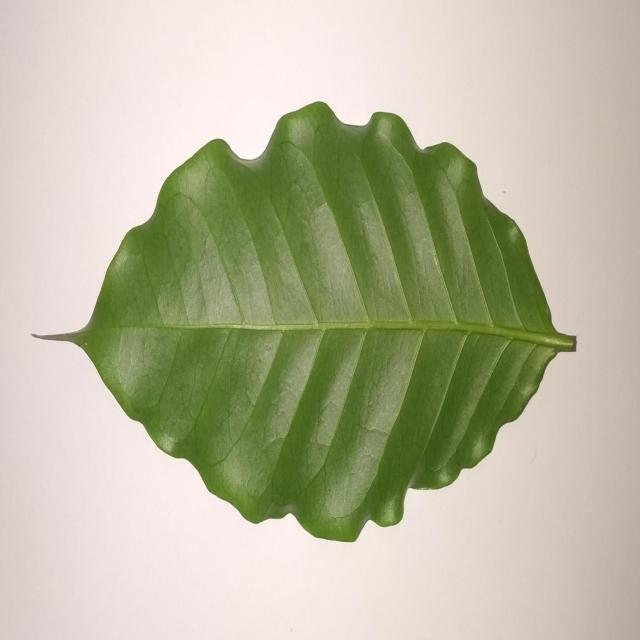Sanas: (36, 102, 578, 546)
